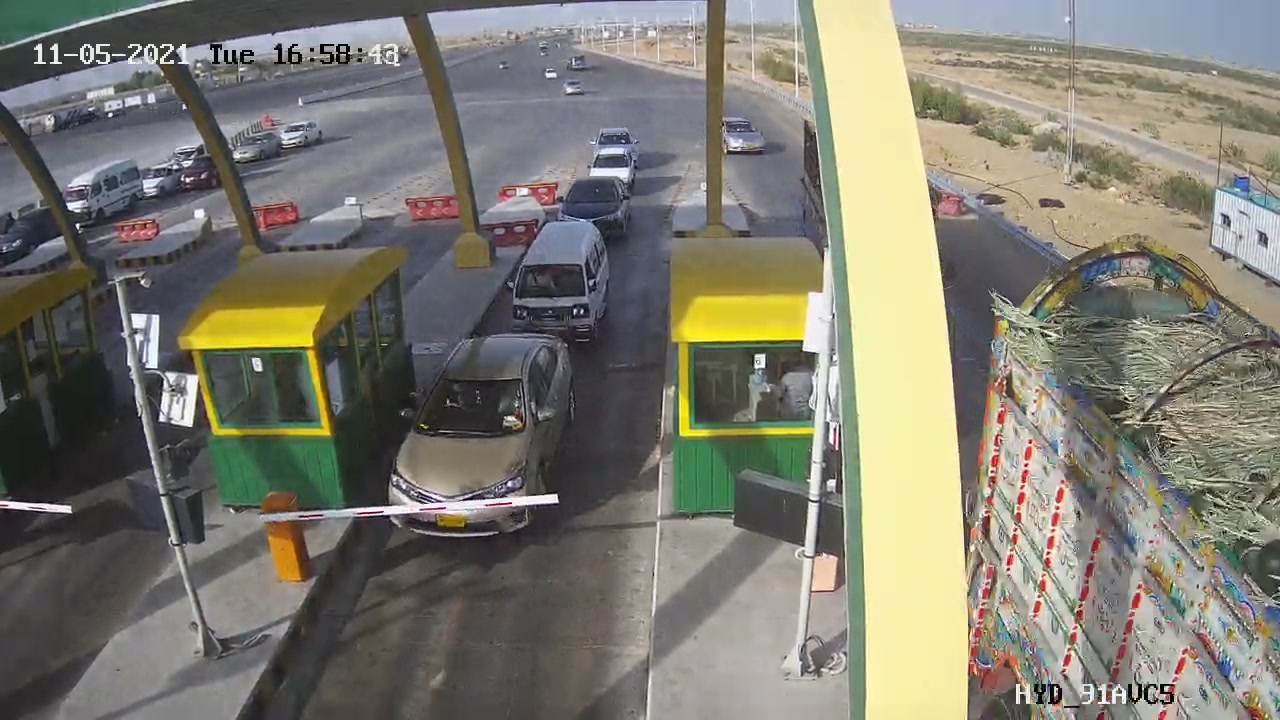F1: (365, 314, 594, 564), (493, 210, 631, 354), (548, 166, 644, 254)
